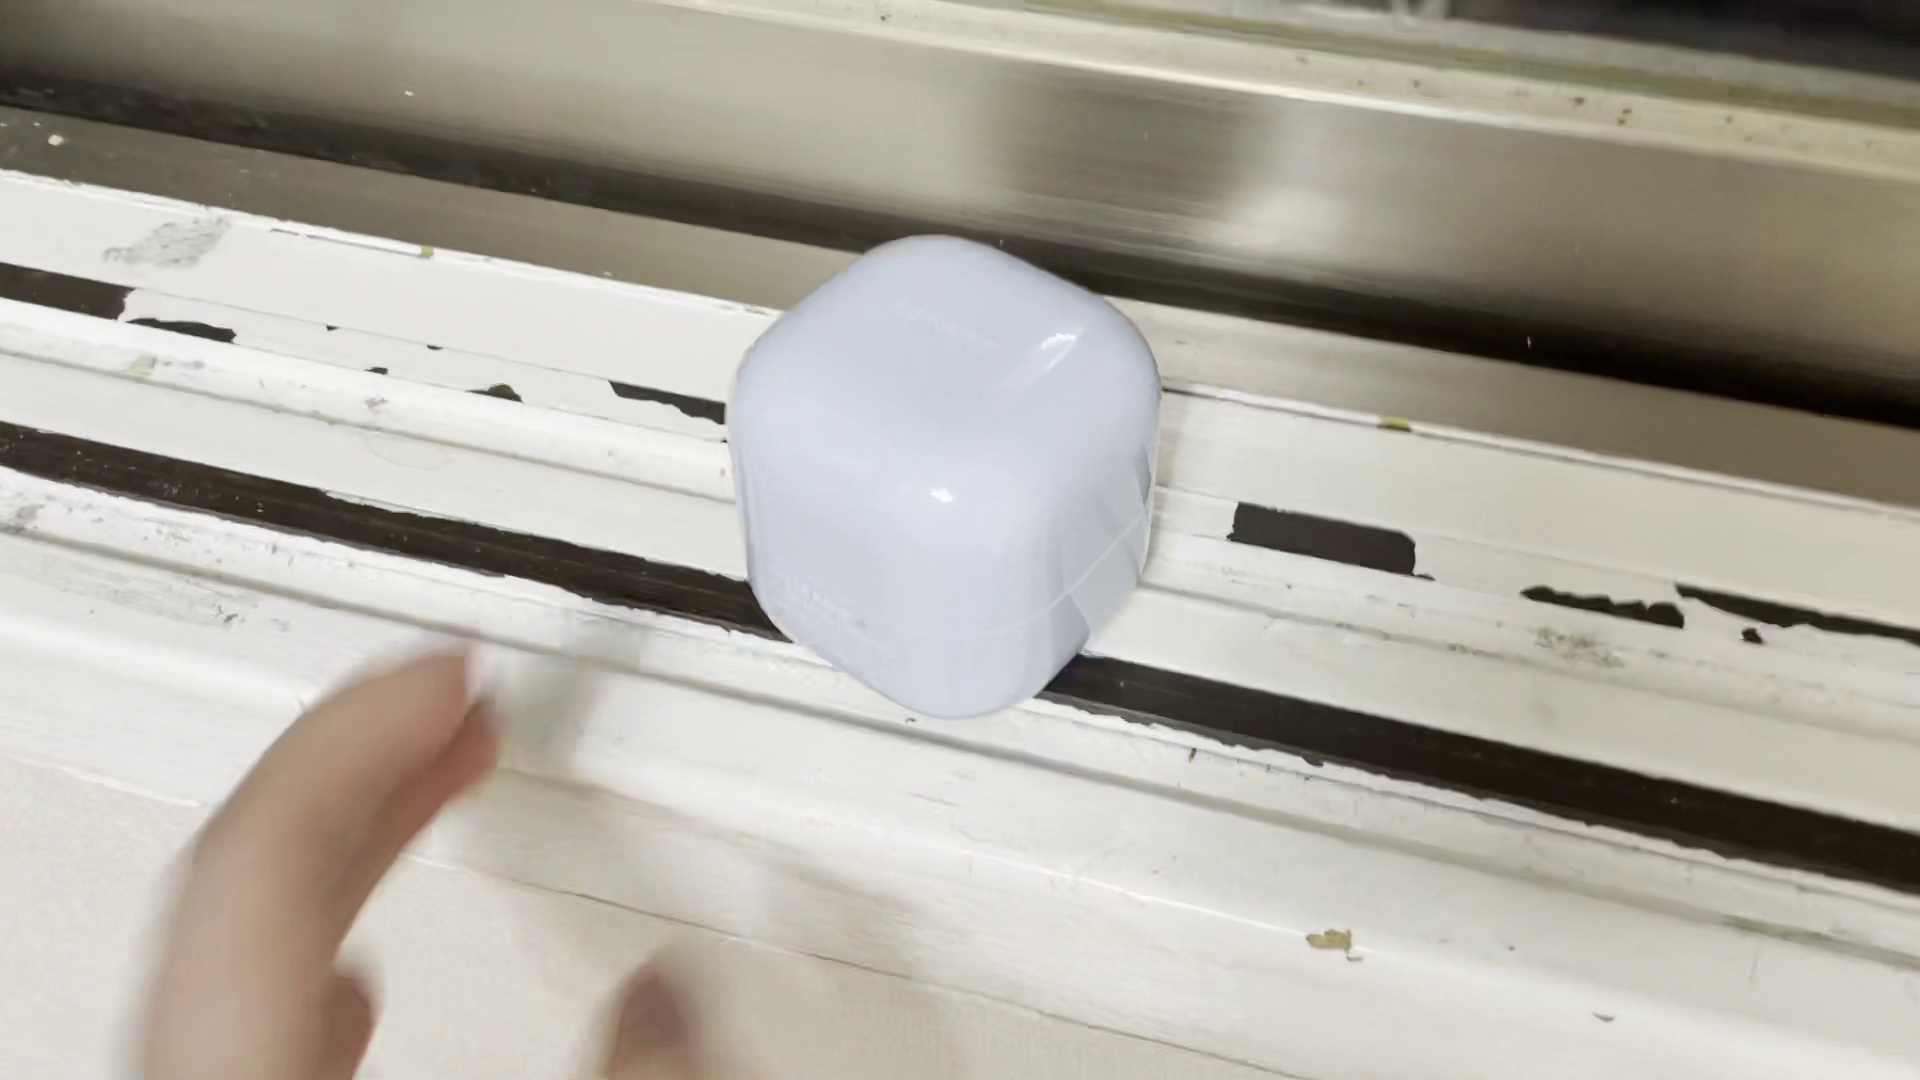cream: (731, 241, 1156, 713)
